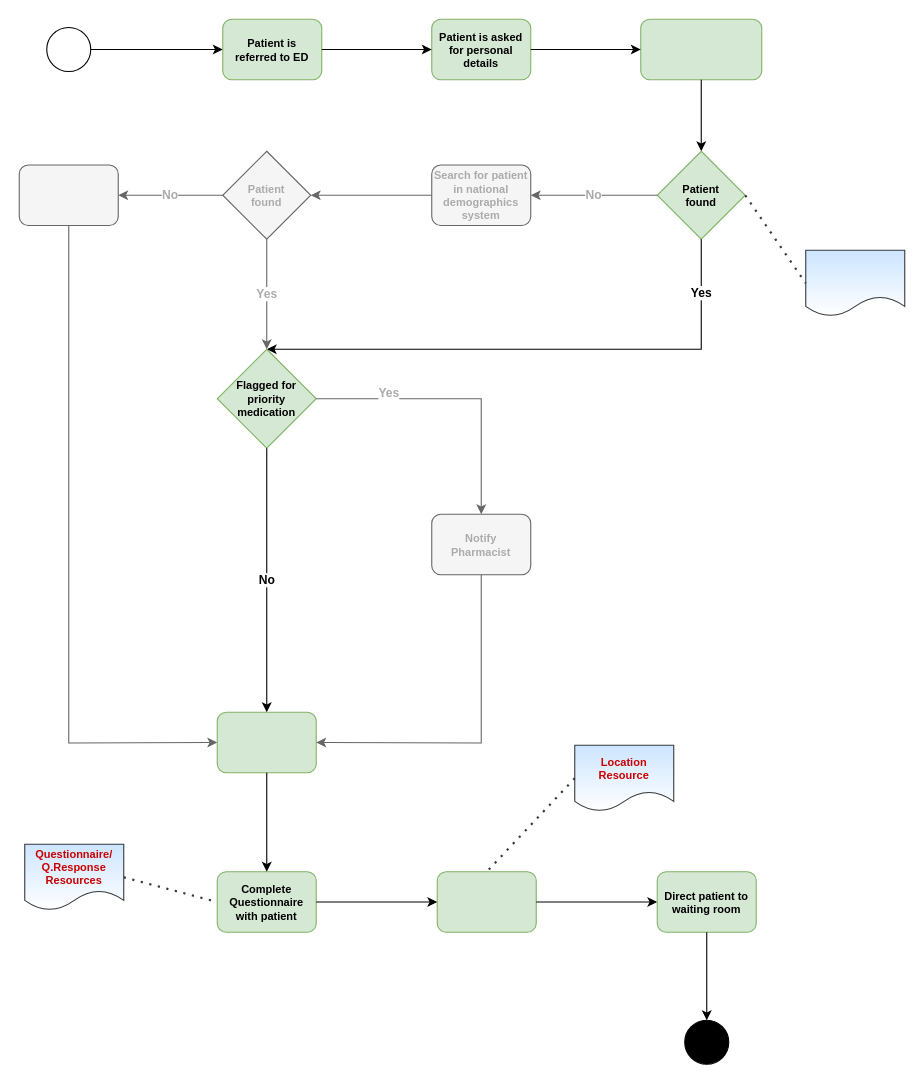
Image size: 924x1084. Some labels were removed from this diagram. Here are the shapes that lost their labels. From the top down, the centre of each, then its label:
the point at 701,49: Receptionist searches for patient in local clinical system
the point at 68,195: Register new patient
the point at 855,282: Patient, Encounter Resources
the point at 266,742: Print wristband and give to patient
the point at 486,901: Update local clinical system
